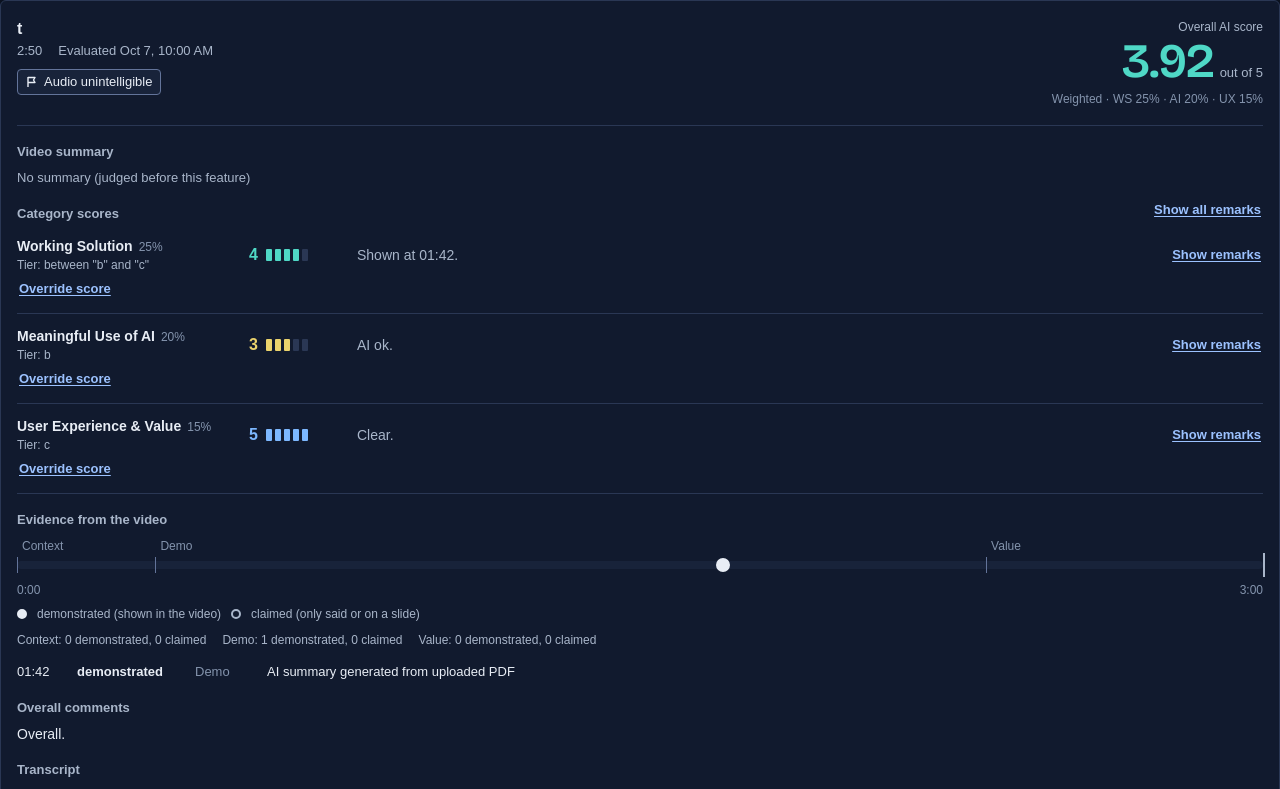
Test: Scorecard overrides (TBL-03) › should_keep_the_dialog_open_and_show_server_errors
Click the button with aria-label "Override score for Working Solution": x=65, y=289 [17,277,113,301]
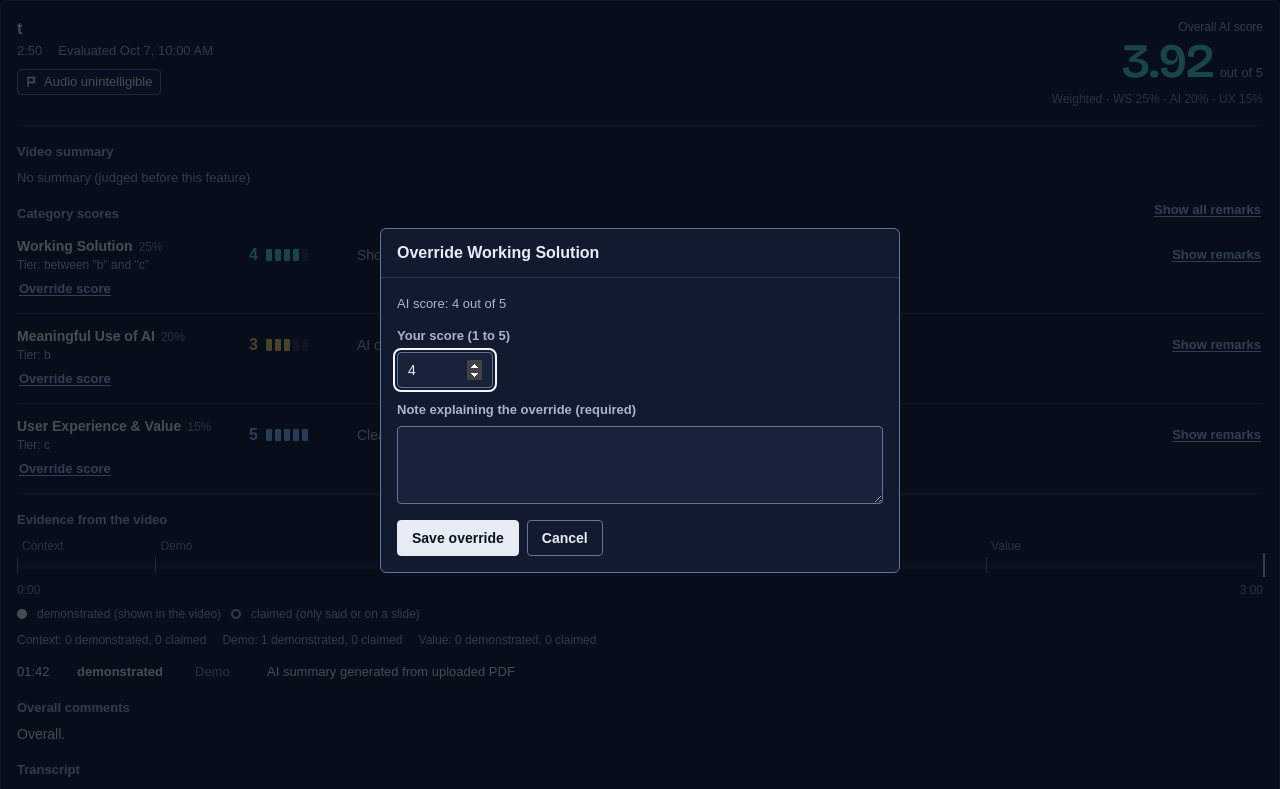
In the text box labelled "Note explaining the override (required)": x=640, y=464 [397,426,883,504], type "x"
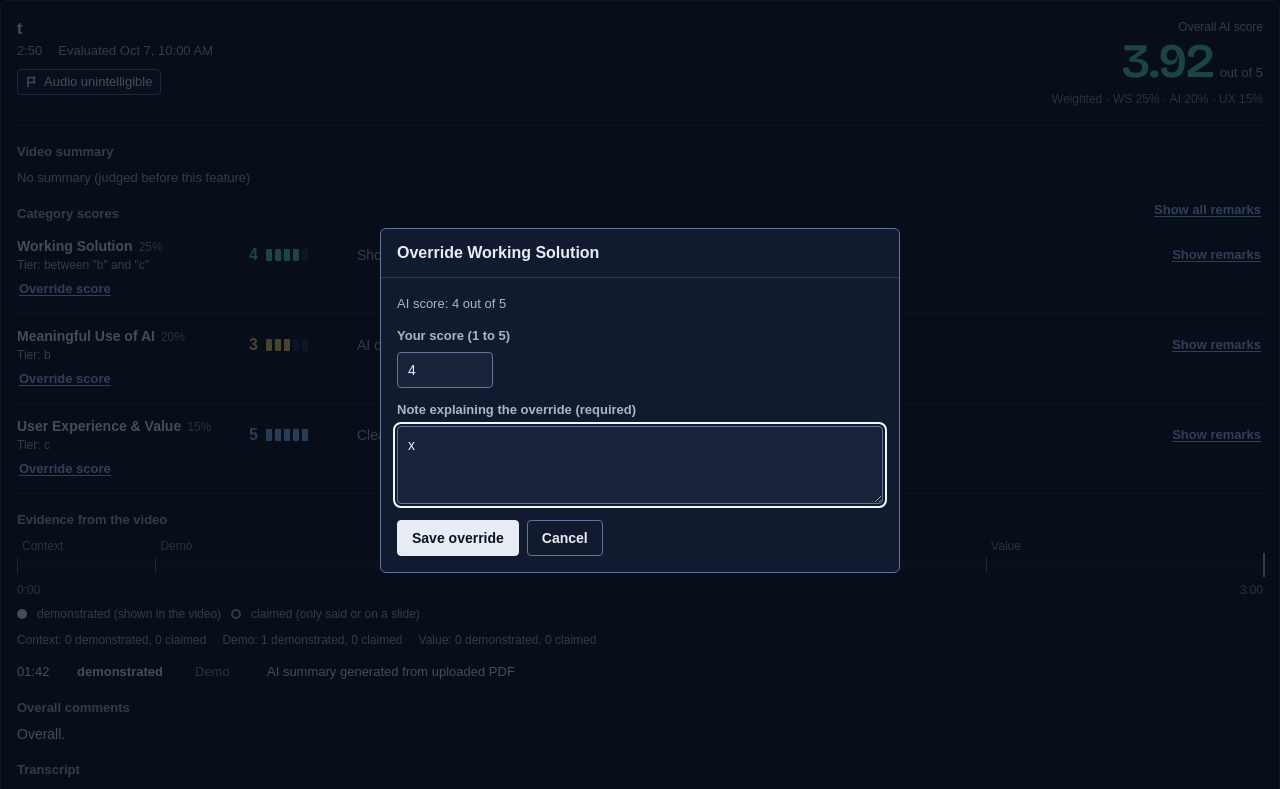
Click the button "Save override": x=458, y=538 [397,520,519,556]
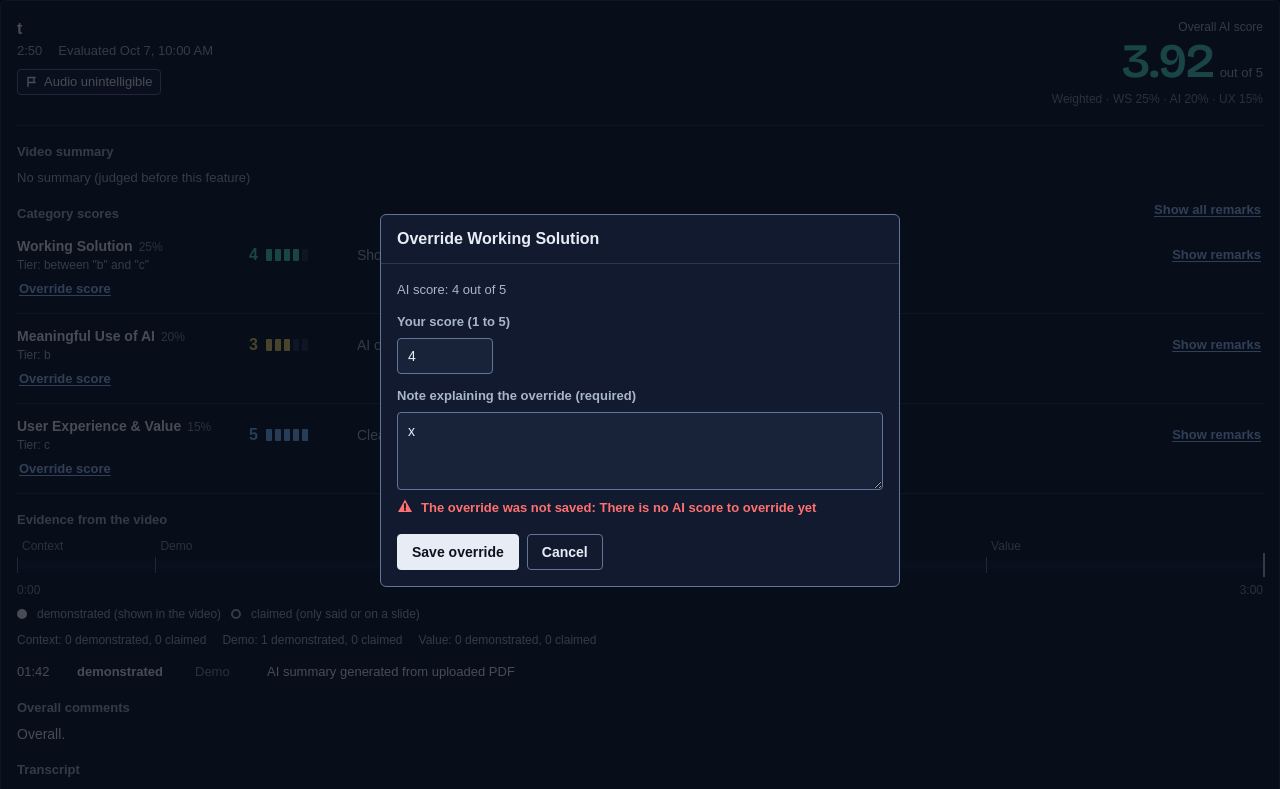
Check: the text "The override was not saved: There is no AI score to override yet" is shown, box [421,498,816,518]
